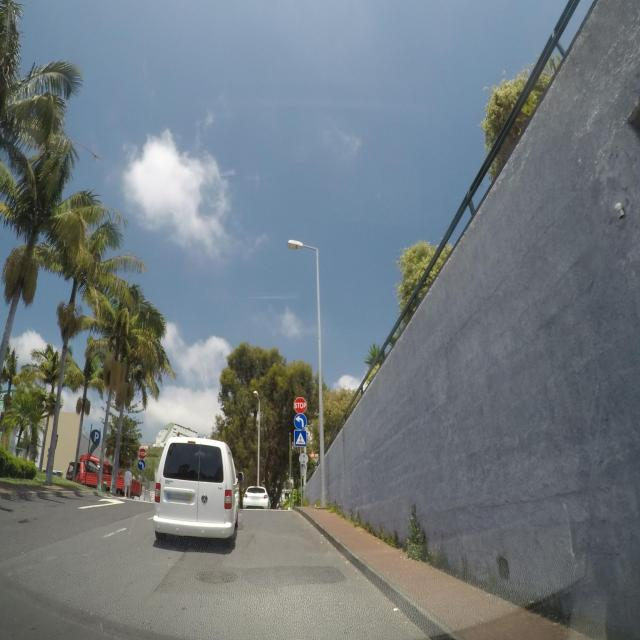car: (153, 435, 240, 551), (242, 485, 270, 510)
